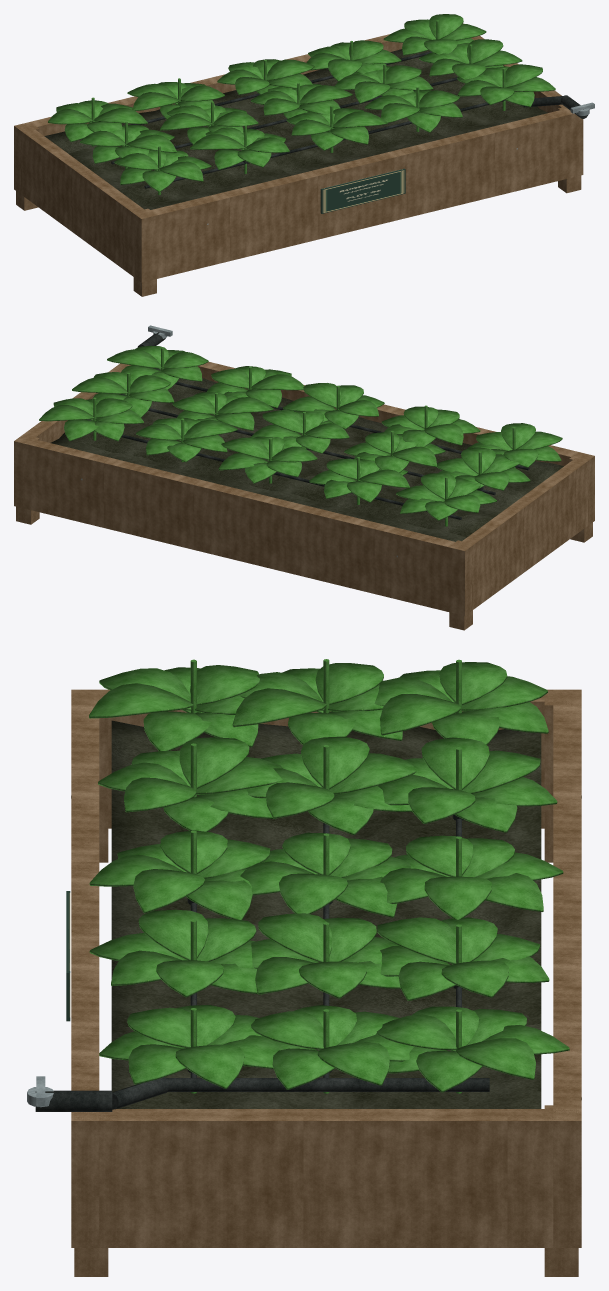
Rendered from PZ_Garden_Mature_Greens.glb.
3 views of the same model, one above another, from view 1: azimuth 30°, elevation 25°; view 2: azimuth 150°, elevation 25°; view 3: azimuth 270°, elevation 25° (orthographic). The views are drawn at different scales.
Parts seen in each view (by area): view 1: SM_MATURE_GREENS_FRAME_FRONT_NODE, SM_MATURE_GREENS_SOIL_WET_NODE, SM_MATURE_GREENS_FRAME_LEFT_NODE, SM_MATURE_GREENS_R1_C5_PLANT_MATURE_NODE, SM_MATURE_GREENS_R1_C2_PLANT_MATURE_NODE, SM_MATURE_GREENS_R1_C3_PLANT_MATURE_NODE, SM_MATURE_GREENS_R3_C5_PLANT_MATURE_NODE, SM_MATURE_GREENS_R1_C1_PLANT_MATURE_NODE, SM_MATURE_GREENS_R1_C4_PLANT_MATURE_NODE, SM_MATURE_GREENS_R3_C1_PLANT_MATURE_NODE, SM_MATURE_GREENS_R3_C3_PLANT_MATURE_NODE, SM_MATURE_GREENS_R2_C5_PLANT_MATURE_NODE (+13 smaller); view 2: SM_MATURE_GREENS_FRAME_REAR_NODE, SM_MATURE_GREENS_SOIL_WET_NODE, SM_MATURE_GREENS_FRAME_LEFT_NODE, SM_MATURE_GREENS_R3_C5_PLANT_MATURE_NODE, SM_MATURE_GREENS_R3_C1_PLANT_MATURE_NODE, SM_MATURE_GREENS_R3_C3_PLANT_MATURE_NODE, SM_MATURE_GREENS_R3_C4_PLANT_MATURE_NODE, SM_MATURE_GREENS_R3_C2_PLANT_MATURE_NODE, SM_MATURE_GREENS_R1_C3_PLANT_MATURE_NODE, SM_MATURE_GREENS_R2_C3_PLANT_MATURE_NODE, SM_MATURE_GREENS_R1_C2_PLANT_MATURE_NODE, SM_MATURE_GREENS_R1_C5_PLANT_MATURE_NODE (+11 smaller); view 3: SM_MATURE_GREENS_FRAME_RIGHT_NODE, SM_MATURE_GREENS_SOIL_WET_NODE, SM_MATURE_GREENS_FRAME_REAR_NODE, SM_MATURE_GREENS_FRAME_FRONT_NODE, SM_MATURE_GREENS_R1_C2_PLANT_MATURE_NODE, SM_MATURE_GREENS_R3_C4_PLANT_MATURE_NODE, SM_MATURE_GREENS_R3_C2_PLANT_MATURE_NODE, SM_MATURE_GREENS_R3_C1_PLANT_MATURE_NODE, SM_MATURE_GREENS_R1_C4_PLANT_MATURE_NODE, SM_MATURE_GREENS_R3_C5_PLANT_MATURE_NODE, SM_MATURE_GREENS_R3_C3_PLANT_MATURE_NODE, SM_MATURE_GREENS_R1_C5_PLANT_MATURE_NODE (+15 smaller).
Boxes of the visible parts, left/top/right/bottom form: SM_MATURE_GREENS_FRAME_FRONT_NODE: left=134, top=108, right=583, bottom=282; SM_MATURE_GREENS_SOIL_WET_NODE: left=44, top=49, right=547, bottom=209; SM_MATURE_GREENS_FRAME_LEFT_NODE: left=21, top=129, right=145, bottom=277; SM_MATURE_GREENS_R1_C5_PLANT_MATURE_NODE: left=457, top=64, right=555, bottom=110; SM_MATURE_GREENS_R1_C2_PLANT_MATURE_NODE: left=190, top=125, right=289, bottom=173; SM_MATURE_GREENS_R1_C3_PLANT_MATURE_NODE: left=286, top=105, right=387, bottom=152; SM_MATURE_GREENS_R3_C5_PLANT_MATURE_NODE: left=383, top=14, right=486, bottom=55; SM_MATURE_GREENS_R1_C1_PLANT_MATURE_NODE: left=114, top=146, right=211, bottom=194; SM_MATURE_GREENS_R1_C4_PLANT_MATURE_NODE: left=364, top=87, right=462, bottom=132; SM_MATURE_GREENS_R3_C1_PLANT_MATURE_NODE: left=48, top=97, right=147, bottom=146; SM_MATURE_GREENS_R3_C3_PLANT_MATURE_NODE: left=217, top=59, right=314, bottom=94; SM_MATURE_GREENS_R2_C5_PLANT_MATURE_NODE: left=419, top=39, right=522, bottom=79; SM_MATURE_GREENS_FRAME_REAR_NODE: left=14, top=436, right=471, bottom=615; SM_MATURE_GREENS_SOIL_WET_NODE: left=50, top=378, right=563, bottom=541; SM_MATURE_GREENS_FRAME_LEFT_NODE: left=462, top=458, right=587, bottom=610; SM_MATURE_GREENS_R3_C5_PLANT_MATURE_NODE: left=39, top=397, right=143, bottom=441; SM_MATURE_GREENS_R3_C1_PLANT_MATURE_NODE: left=396, top=473, right=496, bottom=526; SM_MATURE_GREENS_R3_C3_PLANT_MATURE_NODE: left=218, top=436, right=317, bottom=483; SM_MATURE_GREENS_R3_C4_PLANT_MATURE_NODE: left=136, top=418, right=237, bottom=462; SM_MATURE_GREENS_R3_C2_PLANT_MATURE_NODE: left=309, top=457, right=409, bottom=504; SM_MATURE_GREENS_R1_C3_PLANT_MATURE_NODE: left=283, top=383, right=384, bottom=429; SM_MATURE_GREENS_R2_C3_PLANT_MATURE_NODE: left=250, top=410, right=349, bottom=453; SM_MATURE_GREENS_R1_C2_PLANT_MATURE_NODE: left=381, top=405, right=480, bottom=446; SM_MATURE_GREENS_R1_C5_PLANT_MATURE_NODE: left=107, top=345, right=208, bottom=389; SM_MATURE_GREENS_FRAME_RIGHT_NODE: left=99, top=1109, right=553, bottom=1247; SM_MATURE_GREENS_SOIL_WET_NODE: left=111, top=720, right=541, bottom=1108; SM_MATURE_GREENS_FRAME_REAR_NODE: left=553, top=689, right=581, bottom=1247; SM_MATURE_GREENS_FRAME_FRONT_NODE: left=71, top=689, right=99, bottom=1247; SM_MATURE_GREENS_R1_C2_PLANT_MATURE_NODE: left=98, top=737, right=282, bottom=831; SM_MATURE_GREENS_R3_C4_PLANT_MATURE_NODE: left=377, top=917, right=549, bottom=1000; SM_MATURE_GREENS_R3_C2_PLANT_MATURE_NODE: left=378, top=737, right=557, bottom=832; SM_MATURE_GREENS_R3_C1_PLANT_MATURE_NODE: left=374, top=659, right=548, bottom=744; SM_MATURE_GREENS_R1_C4_PLANT_MATURE_NODE: left=89, top=909, right=262, bottom=997; SM_MATURE_GREENS_R3_C5_PLANT_MATURE_NODE: left=377, top=1006, right=569, bottom=1093; SM_MATURE_GREENS_R3_C3_PLANT_MATURE_NODE: left=380, top=835, right=563, bottom=919; SM_MATURE_GREENS_R1_C5_PLANT_MATURE_NODE: left=99, top=1005, right=283, bottom=1093.
Bounding box in the file's own units: 2.01 × 0.5064 × 1.09.
Materials: 6 (6 with a texture image).
